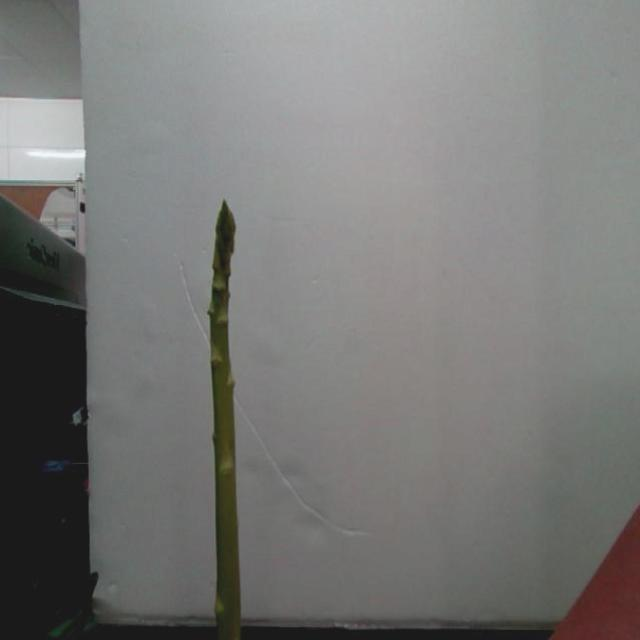aspargus: (209, 201, 245, 640)
